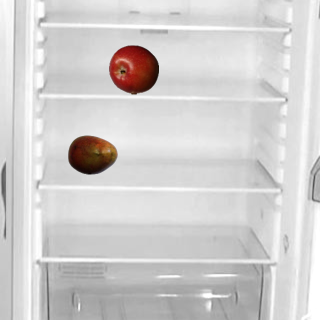Apple Braeburn: (108, 44, 158, 94)
Mango Red: (67, 129, 117, 179)
